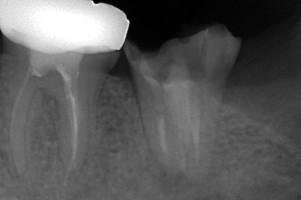Furcation Involvement: (157, 164, 219, 199)
